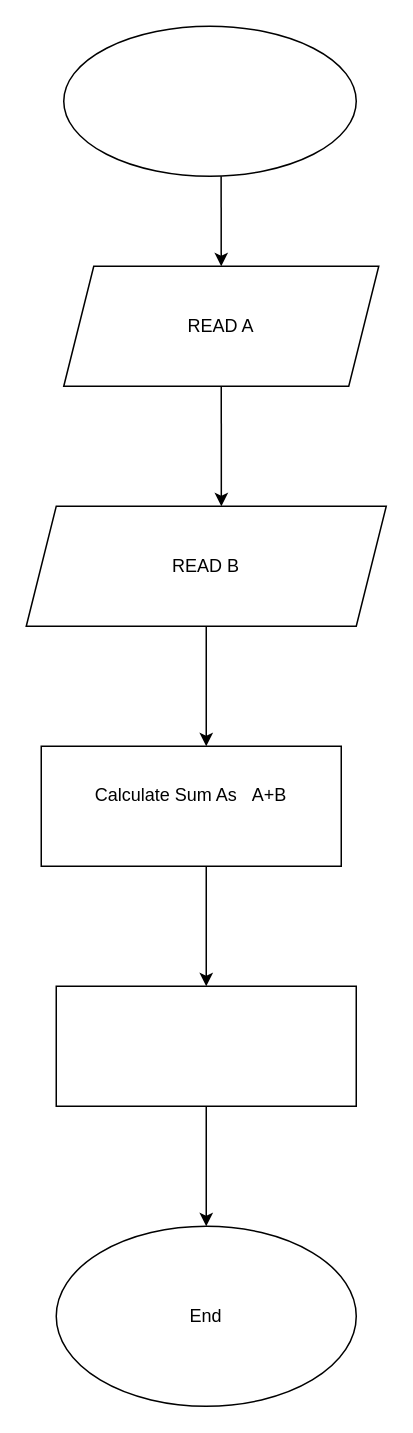
This 413x1433 diagram has some shape labels left out. Here are the shapes that lost their labels. From the top down, the centre of each, then its label:
At pixel 209 100: "start".
At pixel 205 1045: "Print sum".
